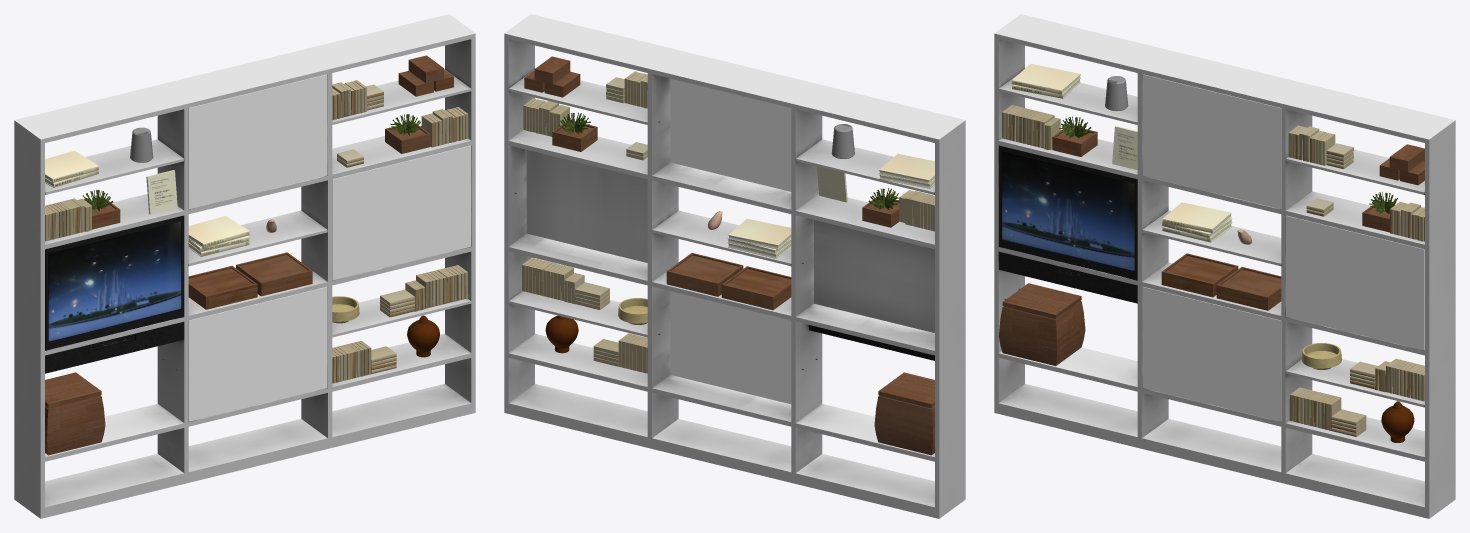
Rendered from shelf3.dae.
The picture shows the model from 3 angles, left to right: view 1: azimuth 30°, elevation 25°; view 2: azimuth 150°, elevation 25°; view 3: azimuth 330°, elevation 25°; orthographic projection.
Visible parts, largest first — view 1: shelf; view 2: shelf; view 3: shelf.
Part boxes in pixels (x1,y1,x2,y2): shelf: [14, 14, 475, 518]; shelf: [504, 14, 965, 518]; shelf: [994, 14, 1455, 518].
Bounding box in the file's own units: 3 × 2.5 × 0.3376.
